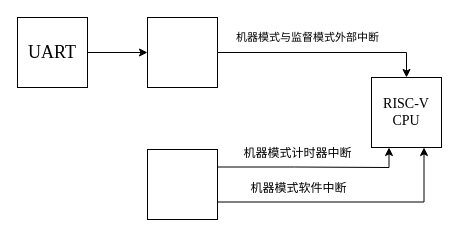
The diagram is 459 pixels wide and 237 high, and some of its shapes have lost their labels. Here are the shapes that lost their labels. From the top down, the centre of each, then its label:
the point at 182,52: PLIC
the point at 182,184: CLINT
